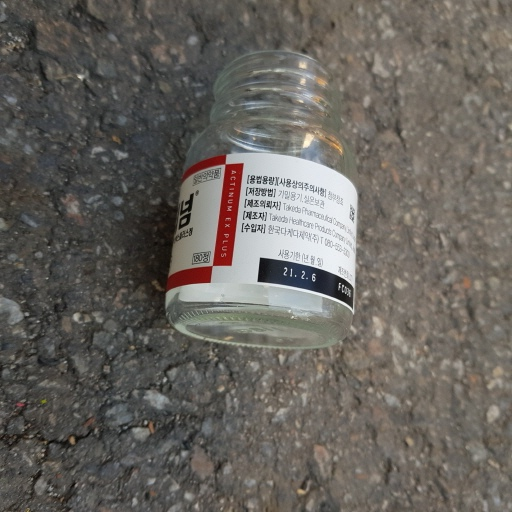Glass_5: (164, 49, 359, 345)
